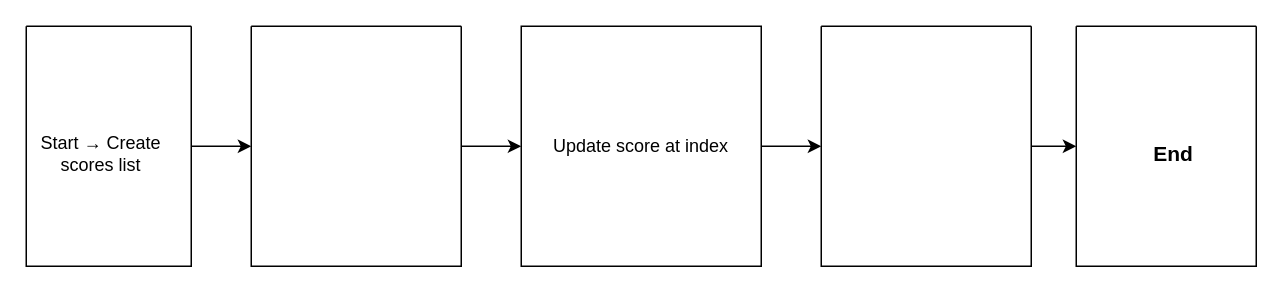
This 1283x293 diagram has some shape labels left out. The centre of each missing label's shape, as x and y in pixels:
"Add new score Check list length" goes at point 925,145.
"Print all scores │Print specific items" goes at point 355,145.
